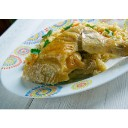briyani: (32, 28, 126, 79)
